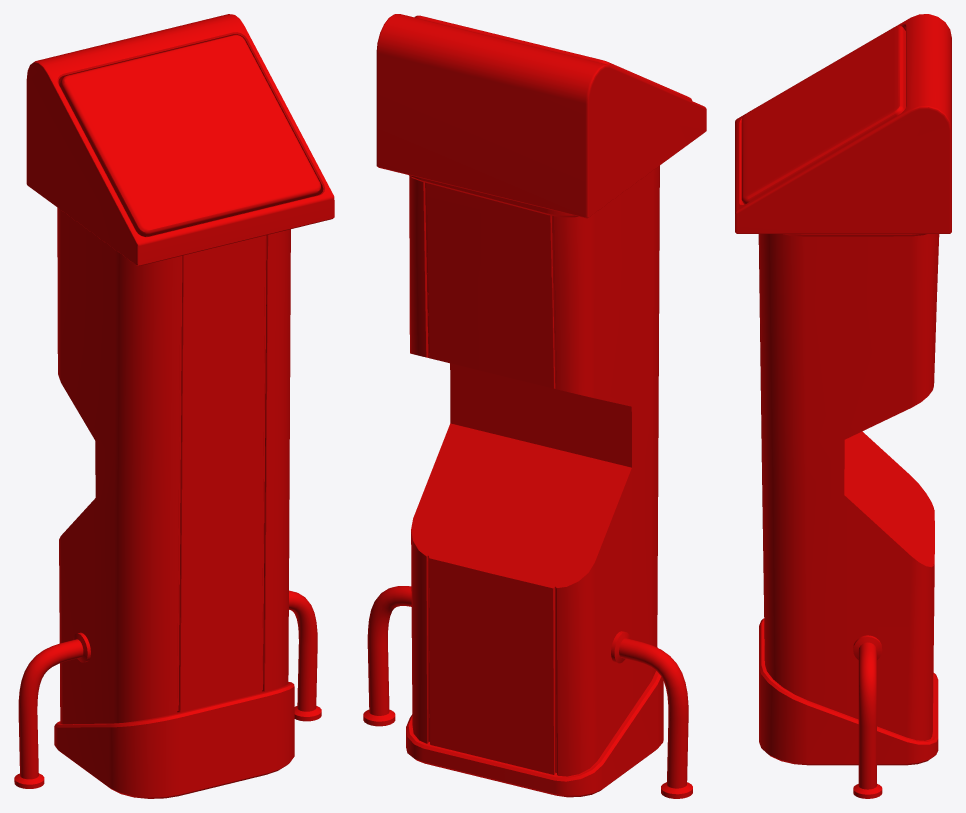
File: Panel_1.fbx
3 views of the same model, side by side, from view 1: azimuth 30°, elevation 25°; view 2: azimuth 150°, elevation 25°; view 3: azimuth 270°, elevation 25° (orthographic). The views are drawn at different scales.
Visible parts, largest first — view 1: L6:polySurface323; view 2: L6:polySurface323; view 3: L6:polySurface323.
Part boxes in pixels (x1,y1,x2,y2): L6:polySurface323: (14,14,334,798); L6:polySurface323: (363,14,706,798); L6:polySurface323: (735,14,951,798).
Bounding box in the file's own units: 72.3 × 157 × 46.14.
